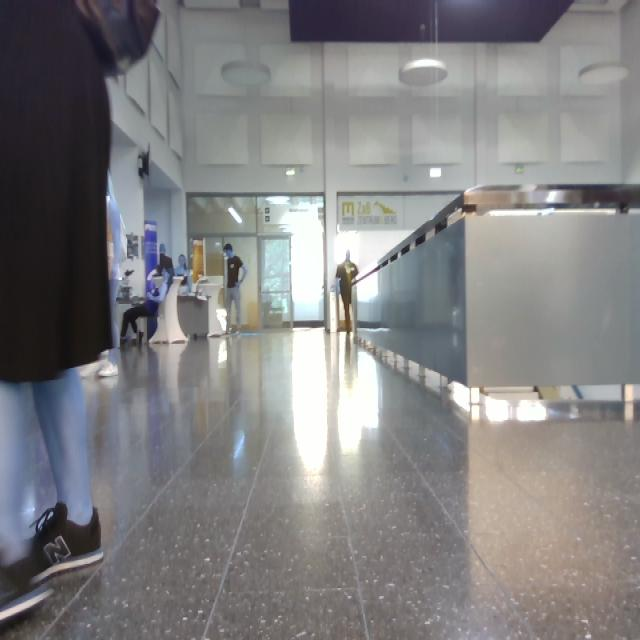light bulb: (401, 59, 447, 87), (580, 63, 631, 85), (222, 63, 272, 85), (229, 209, 244, 225)
person: (1, 1, 160, 624), (99, 176, 129, 379), (121, 274, 169, 339), (225, 244, 249, 334), (337, 253, 360, 334), (176, 256, 194, 295), (157, 244, 176, 280)
staircase: (359, 189, 640, 389)
tiled floor: (2, 331, 640, 639)
